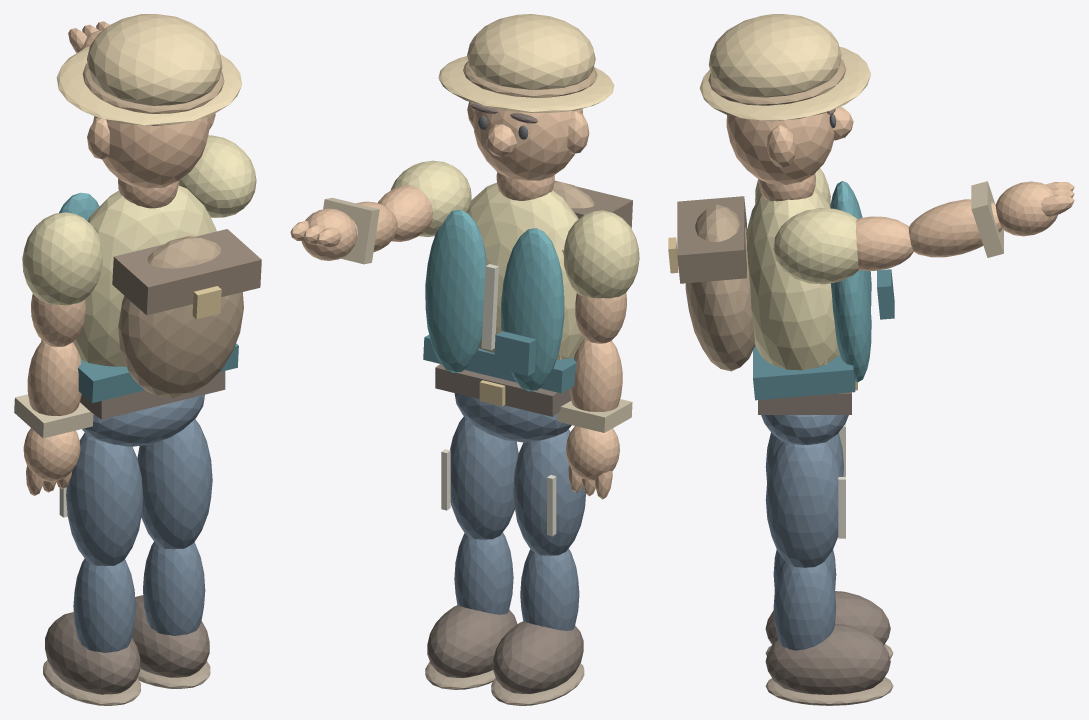
The model's file is survivor_cast_POSE_DIAGNOSTIC.glb.
3 views of the same model, side by side, from view 1: azimuth 30°, elevation 25°; view 2: azimuth 150°, elevation 25°; view 3: azimuth 270°, elevation 25° (orthographic). The views are drawn at different scales.
Parts seen in each view (by area): view 1: pack_body, hat_crown, torso_shirt, L_thigh, R_thigh, pack_flap, L_sleeve, head_skin, L_shin, R_shin, L_boot, R_sleeve (+16 smaller); view 2: vest_right, hat_crown, vest_left, torso_shirt, R_thigh, L_thigh, L_sleeve, L_boot, head_skin, R_boot, R_shin, L_shin (+26 smaller); view 3: torso_shirt, hat_crown, R_thigh, pack_body, R_boot, R_sleeve, head_skin, R_shin, pack_flap, hat_brim, R_forearm, vest_right (+14 smaller).
Part boxes in pixels (x1,y1,x2,y2): pack_body: [118, 236, 243, 398]; hat_crown: [87, 14, 222, 105]; torso_shirt: [73, 185, 216, 366]; L_thigh: [66, 433, 143, 566]; R_thigh: [137, 419, 212, 549]; pack_flap: [112, 229, 261, 315]; L_sleeve: [22, 212, 102, 305]; head_skin: [93, 116, 209, 188]; L_shin: [73, 558, 135, 652]; R_shin: [143, 541, 205, 635]; L_boot: [45, 612, 140, 694]; R_sleeve: [179, 135, 256, 217]; vest_right: [425, 209, 486, 372]; hat_crown: [467, 14, 595, 89]; vest_left: [501, 228, 564, 391]; torso_shirt: [467, 182, 584, 359]; R_thigh: [450, 416, 518, 539]; L_thigh: [513, 429, 585, 555]; L_sleeve: [563, 210, 639, 298]; L_boot: [493, 621, 583, 693]; head_skin: [473, 108, 582, 180]; R_boot: [427, 605, 517, 677]; R_shin: [454, 532, 513, 614]; L_shin: [520, 548, 579, 630]; torso_shirt: [746, 187, 839, 370]; hat_crown: [709, 14, 841, 97]; R_thigh: [765, 442, 841, 567]; pack_body: [685, 204, 755, 371]; R_boot: [765, 624, 890, 694]; R_sleeve: [773, 208, 858, 284]; head_skin: [726, 112, 834, 184]; R_shin: [773, 561, 836, 650]; pack_flap: [677, 196, 746, 283]; hat_brim: [699, 46, 870, 121]; R_forearm: [908, 199, 1002, 257]; vest_right: [830, 270, 871, 382].
Size of the model in its own units: 0.676 by 1.84 by 1.04.
